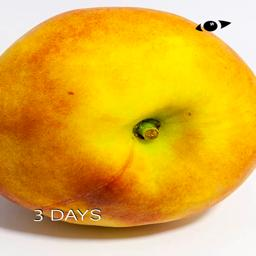Peach Ripe: (0, 6, 256, 226)
